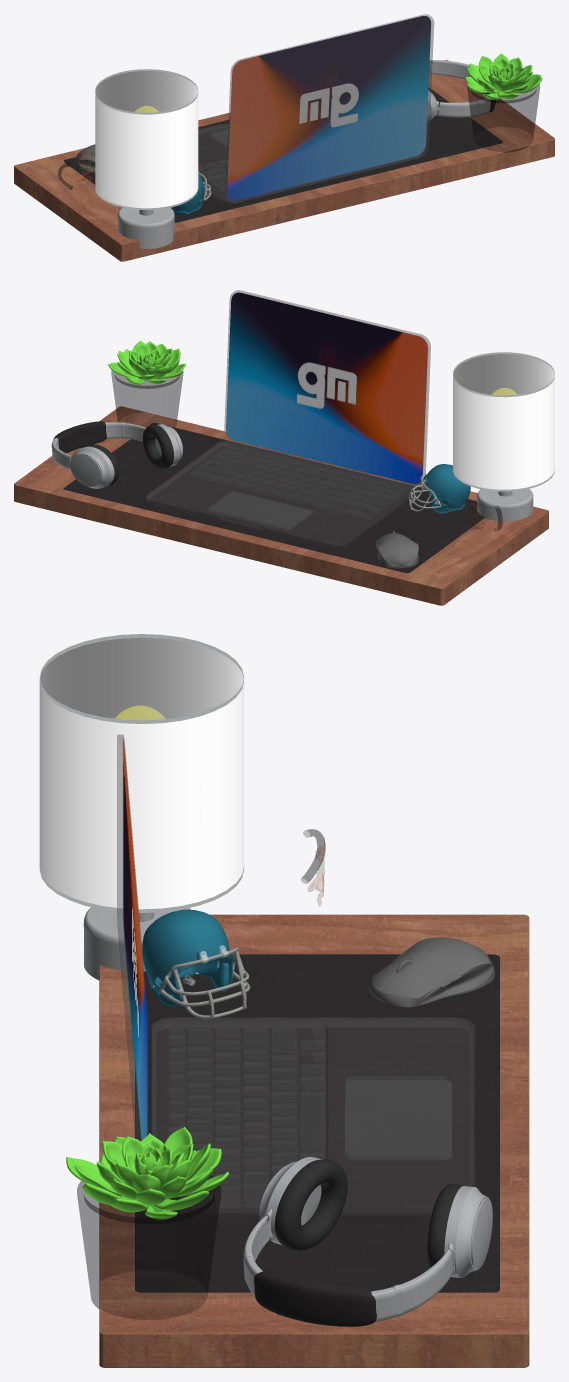
The model's file is Desk_09-hero.glb.
3 views of the same model, one above another, from view 1: azimuth 30°, elevation 25°; view 2: azimuth 150°, elevation 25°; view 3: azimuth 270°, elevation 25° (orthographic). The views are drawn at different scales.
Visible parts, largest first — view 1: object_10, Screen, object_70, Cylinder.001, object_1, object_13, object_1.002, object_1.001, Helmet.001, object_16, object_24; view 2: Screen, object_1, object_70, object_10, Cylinder.001, object_13, object_1.001, object_1.002, Helmet.001, object_3, object_16; view 3: object_1, object_70, object_10, Cylinder.001, object_1.001, object_1.002, object_13, Helmet.001, object_3, Screen, object_16.
Boxes of the visible parts, x1,y1,x2,y2 form: object_10: (198, 14, 433, 203); Screen: (227, 16, 430, 200); object_70: (14, 60, 554, 261); Cylinder.001: (95, 71, 198, 208); object_1: (63, 87, 502, 222); object_13: (95, 60, 490, 248); object_1.002: (467, 84, 539, 152); object_1.001: (75, 53, 542, 172); Helmet.001: (171, 172, 211, 215); object_16: (95, 91, 437, 209); object_24: (75, 152, 94, 182); Screen: (226, 292, 427, 484); object_1: (53, 421, 484, 573); object_70: (14, 406, 548, 605); object_10: (85, 290, 430, 547); Cylinder.001: (453, 354, 554, 489); object_13: (51, 352, 554, 521); object_1.001: (108, 340, 418, 568); object_1.002: (111, 362, 183, 428); Helmet.001: (408, 464, 470, 513); object_3: (81, 425, 173, 486); object_16: (83, 425, 554, 491); object_1: (135, 954, 499, 1326); object_70: (99, 914, 529, 1367); object_10: (117, 734, 474, 1224); Cylinder.001: (39, 637, 244, 909); object_1.001: (66, 937, 494, 1219); object_1.002: (77, 1175, 220, 1319); object_13: (39, 634, 492, 1321); Helmet.001: (142, 909, 250, 1019); object_3: (274, 1159, 462, 1267); Screen: (123, 739, 147, 1139); object_16: (39, 866, 465, 1277).
Size of the model in its own units: 6.56 by 2.38 by 3.17.
15 materials, 14 textured.
